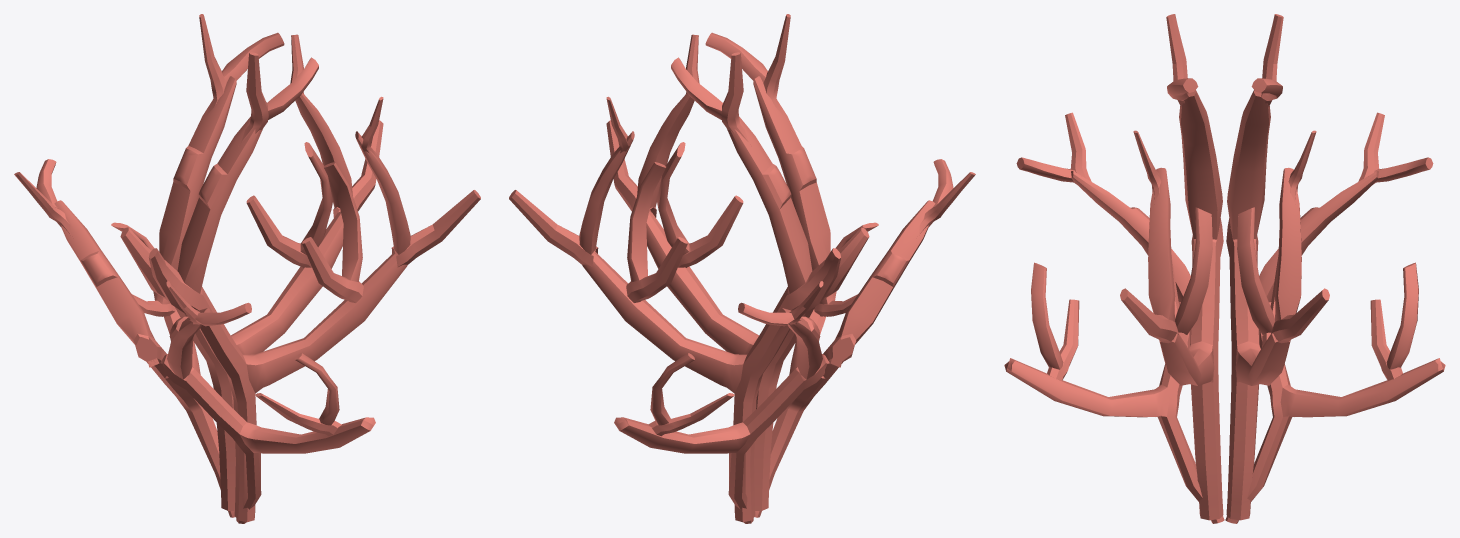
The model's file is CORAL.fbx.
3 renders of one model, left to right at view 1: azimuth 30°, elevation 25°; view 2: azimuth 150°, elevation 25°; view 3: azimuth 270°, elevation 25°, orthographic. The views are drawn at different scales.
Parts seen in each view (by area): view 1: PLANT; view 2: PLANT; view 3: PLANT.
Boxes of the visible parts, x1,y1,x2,y2 form: PLANT: (14,14,480,523); PLANT: (509,14,975,523); PLANT: (1004,14,1445,523).
Bounding box in the file's own units: 12.83 × 13.95 × 17.54.
